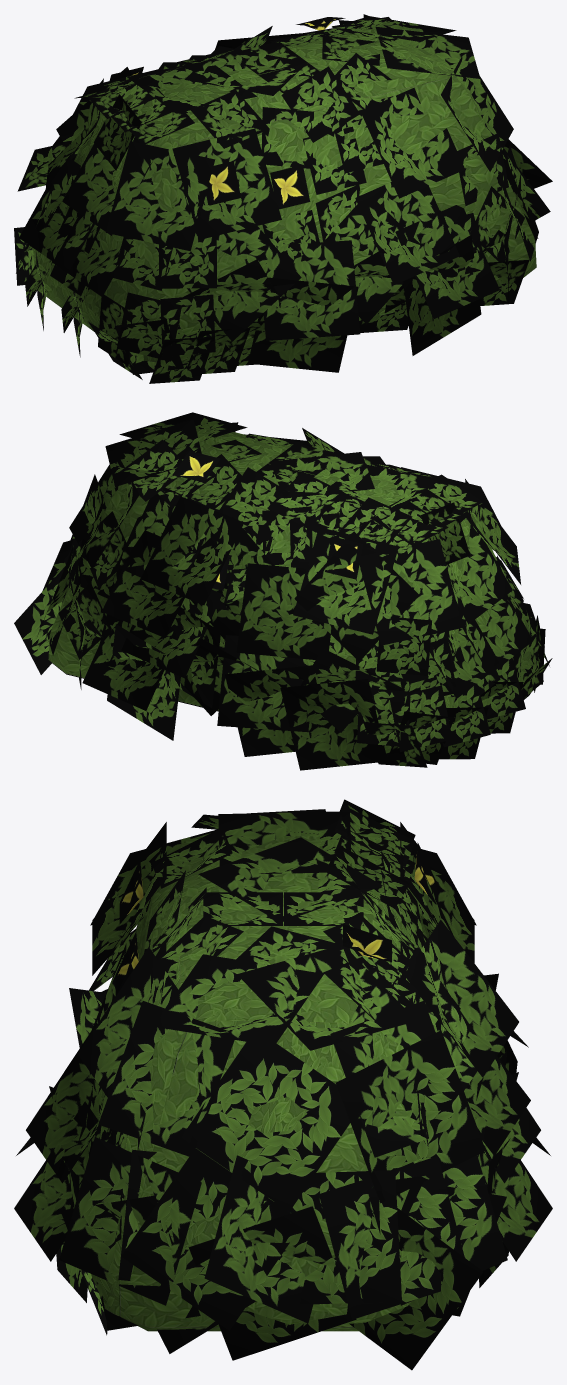
The model's file is camp_bush_flowering.gltf.
3 views of the same model, one above another, from view 1: azimuth 30°, elevation 25°; view 2: azimuth 150°, elevation 25°; view 3: azimuth 270°, elevation 25° (orthographic). The views are drawn at different scales.
Parts seen in each view (by area): view 1: Bush3; view 2: Bush3; view 3: Bush3.
Boxes of the visible parts, box(x1,y1,x2,y2) form: Bush3: box(14, 14, 552, 383); Bush3: box(14, 412, 552, 770); Bush3: box(14, 799, 552, 1370).
Size of the model in its own units: 1.68 by 0.877 by 1.21.
Materials: 1 (1 with a texture image).
